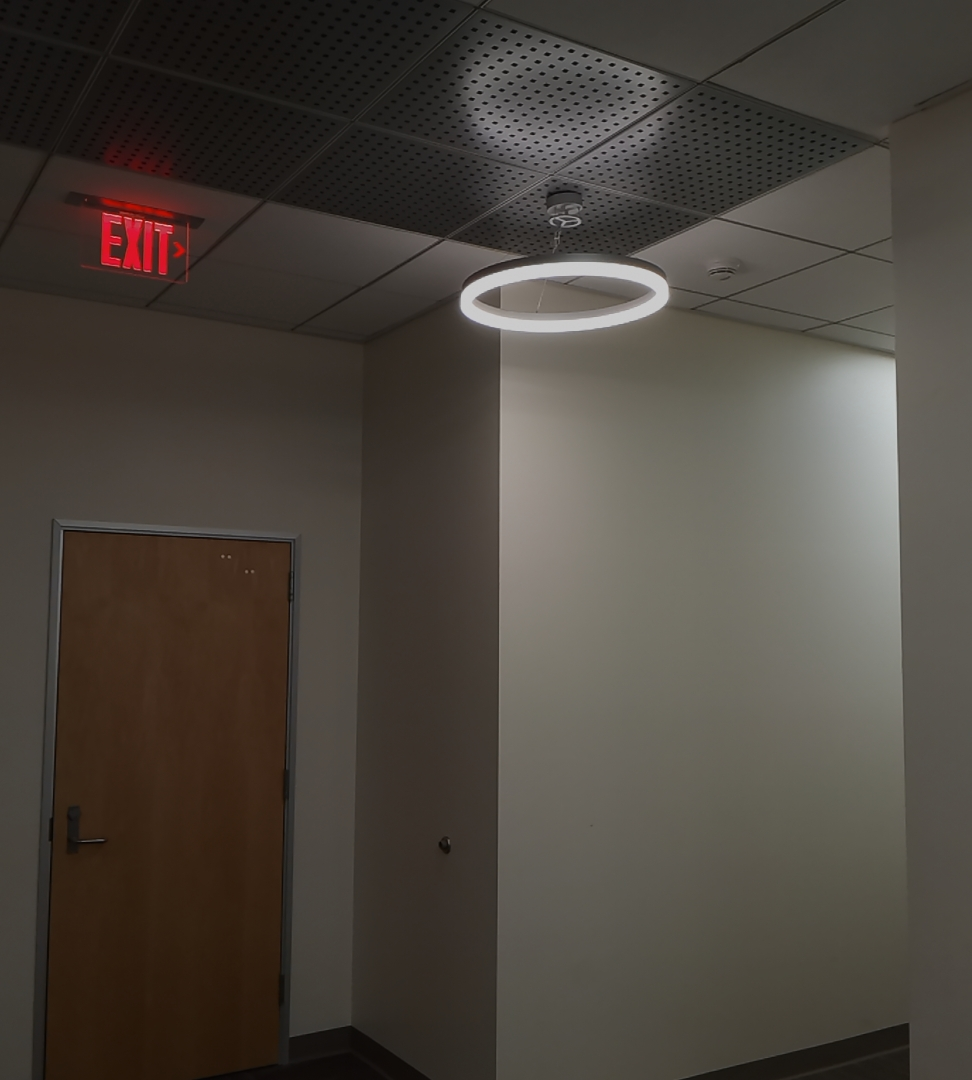emergency_exit: (80, 203, 193, 285)
